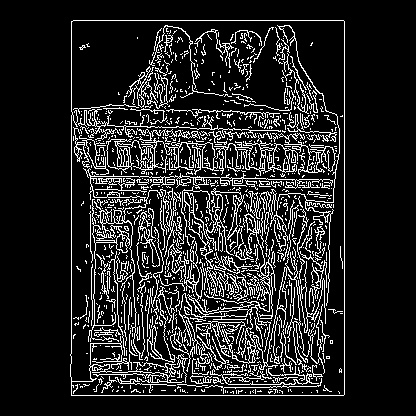buddha-sleeping: (104, 115, 221, 307)
